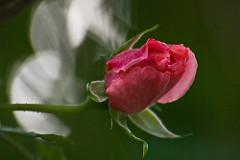Rose: (101, 34, 201, 117)
